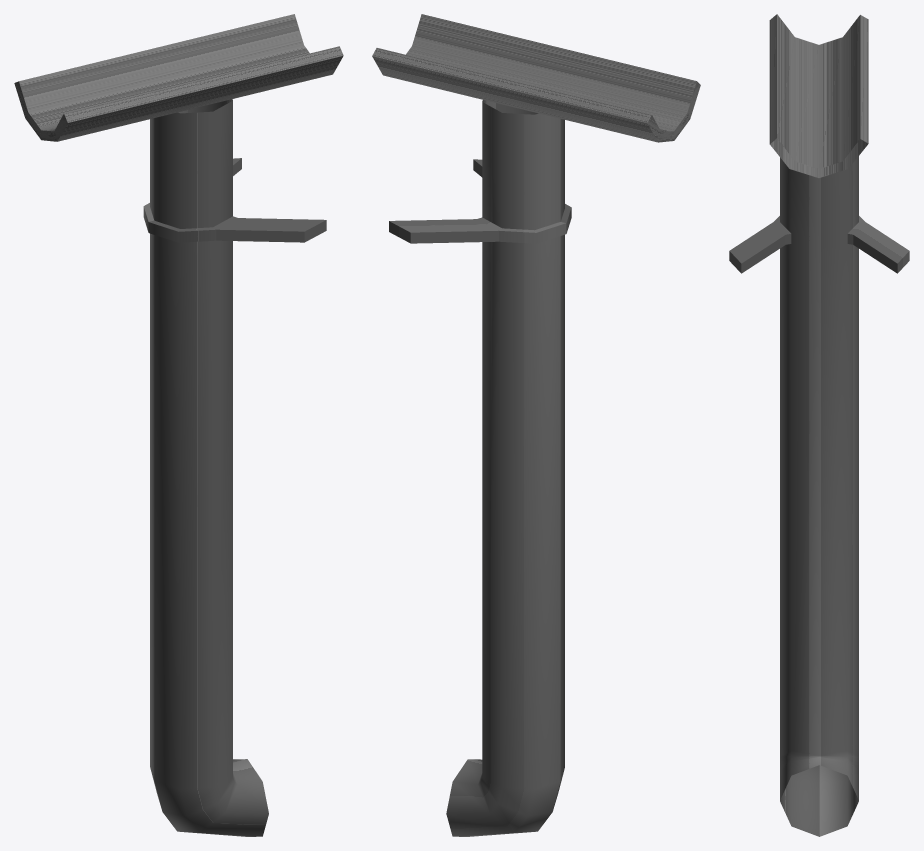
Rendered from WindowGutter_01.fbx.
3 renders of one model, left to right at view 1: azimuth 30°, elevation 25°; view 2: azimuth 150°, elevation 25°; view 3: azimuth 270°, elevation 25°, orthographic. The views are drawn at different scales.
Parts seen in each view (by area): view 1: WindowGutter_01; view 2: WindowGutter_01; view 3: WindowGutter_01.
Part boxes in pixels (x1,y1,x2,y2): WindowGutter_01: [14, 14, 343, 836]; WindowGutter_01: [372, 14, 700, 836]; WindowGutter_01: [729, 14, 909, 836].
Bounding box in the file's own units: 161 × 442 × 98.97.
1 material, 1 textured.
